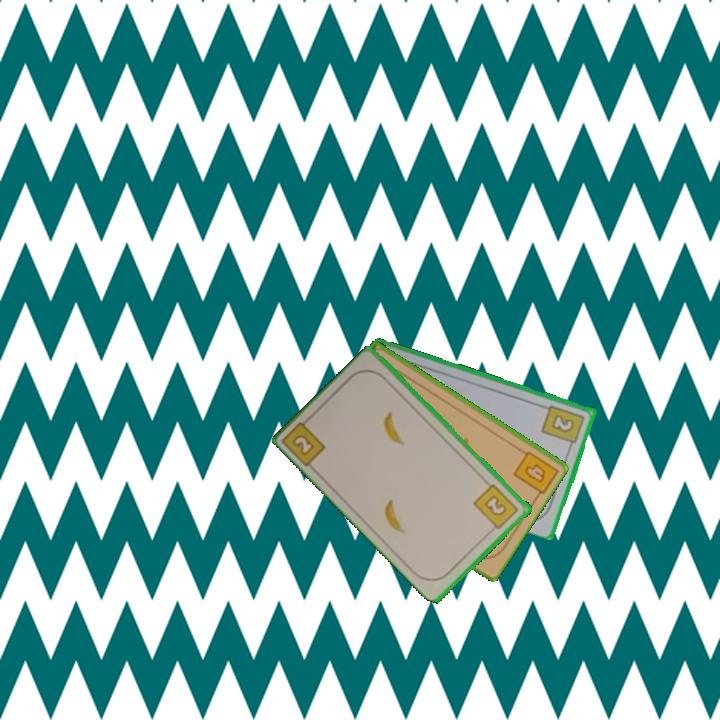2b: (470, 480, 522, 535), (281, 412, 329, 470), (539, 401, 588, 451)
4b: (521, 460, 549, 486)
